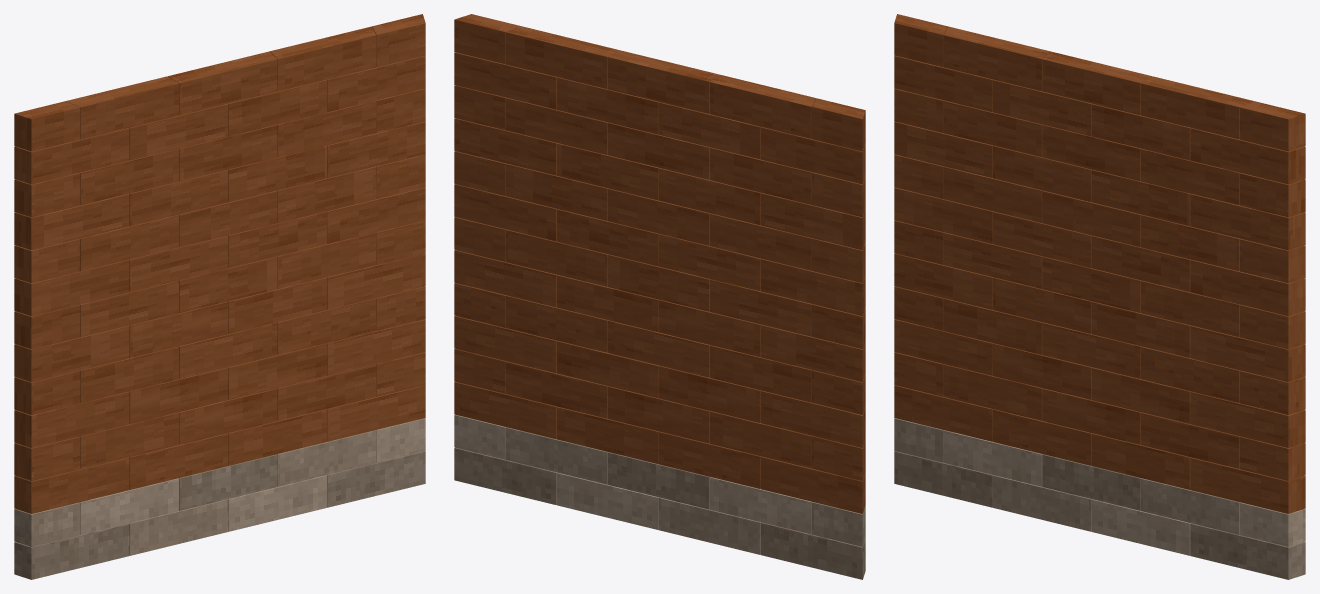
The model's file is Courses-4.glb.
The picture shows the model from 3 angles, left to right: view 1: azimuth 30°, elevation 25°; view 2: azimuth 150°, elevation 25°; view 3: azimuth 330°, elevation 25°; orthographic projection.
Parts seen in each view (by area): view 1: Courses-4; view 2: Courses-4; view 3: Courses-4.
Boxes of the visible parts, box(x1,y1,x2,y2) form: Courses-4: box(14, 14, 425, 579); Courses-4: box(454, 14, 865, 579); Courses-4: box(894, 14, 1305, 579).
Size of the model in its own units: 3.29 by 3.55 by 0.141.
4 materials, 4 textured.
